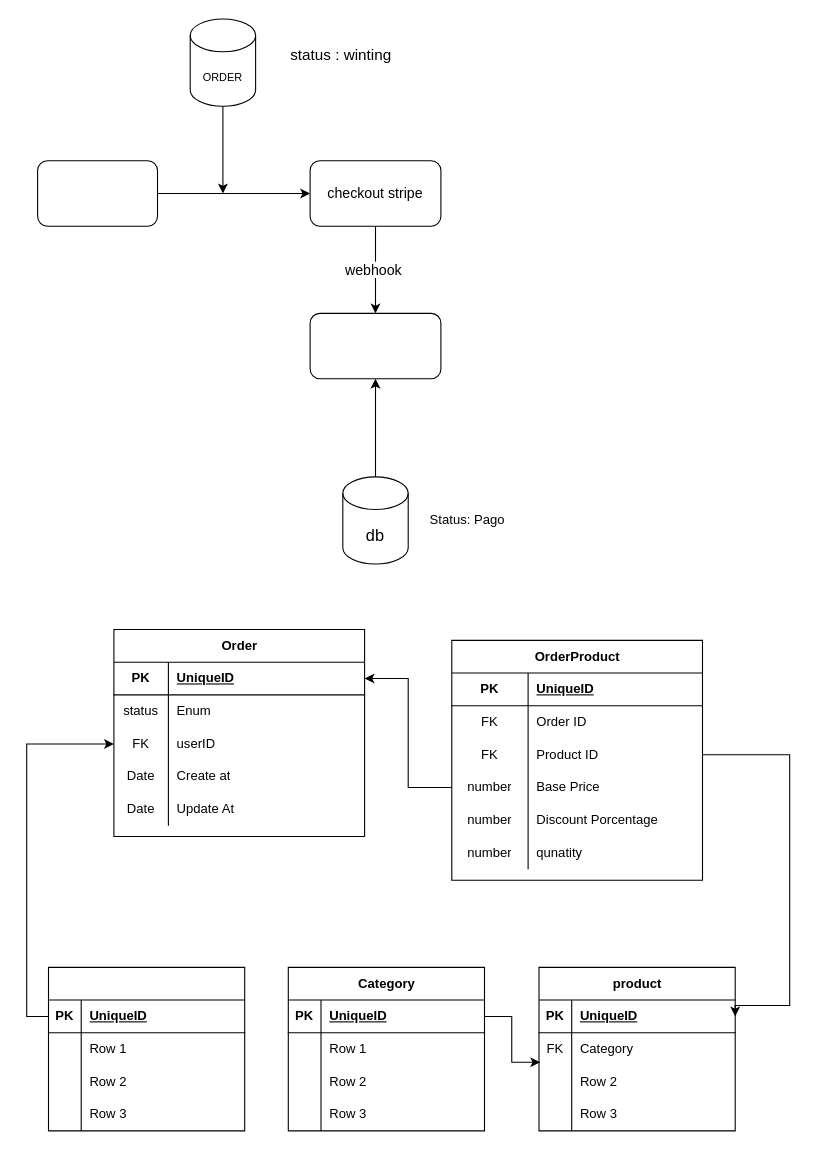
Some shapes in this 818 by 1150 pixel diagram are drawn without their labels. The box of each missing label's shape, as (x1, y1, x2, y2) in pixels:
Finaliza pedido: (37, 160, 158, 226)
pagamento confirmado: (309, 312, 441, 379)
User: (47, 966, 245, 1131)
